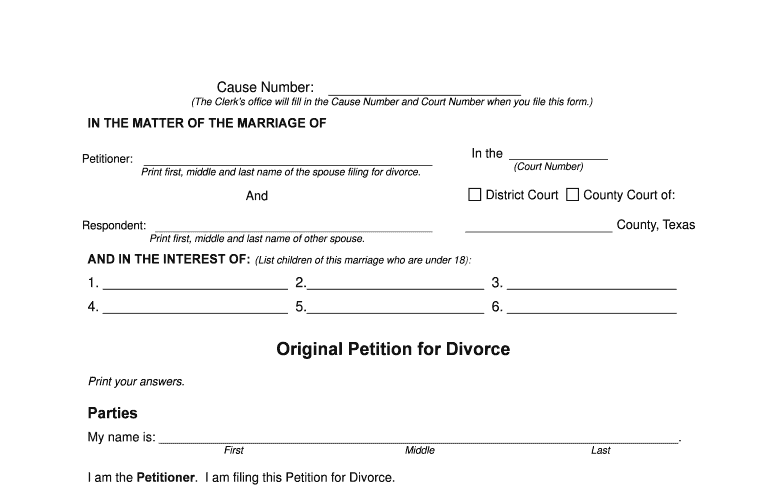checkbox: (563, 186, 580, 205), (467, 185, 482, 203)
textline: (156, 430, 681, 446), (153, 214, 435, 234), (142, 148, 432, 167), (306, 295, 485, 315), (306, 271, 485, 291), (102, 272, 289, 291), (102, 296, 289, 315), (505, 272, 677, 291), (505, 296, 677, 315), (327, 82, 524, 98), (463, 214, 613, 234), (507, 145, 611, 162)
